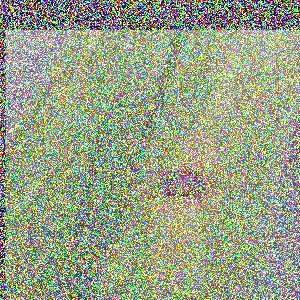Bacterial_Leaf_Blight: (138, 148, 229, 217), (184, 58, 212, 80), (252, 135, 277, 154), (234, 91, 257, 110)
